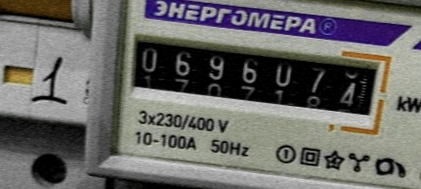0: (137, 44, 162, 74), (274, 58, 295, 89), (173, 48, 194, 76)
4: (338, 79, 358, 108)
6: (239, 53, 260, 85)
7: (306, 63, 328, 94)
9: (206, 51, 227, 81)
screen: (113, 18, 395, 135)
